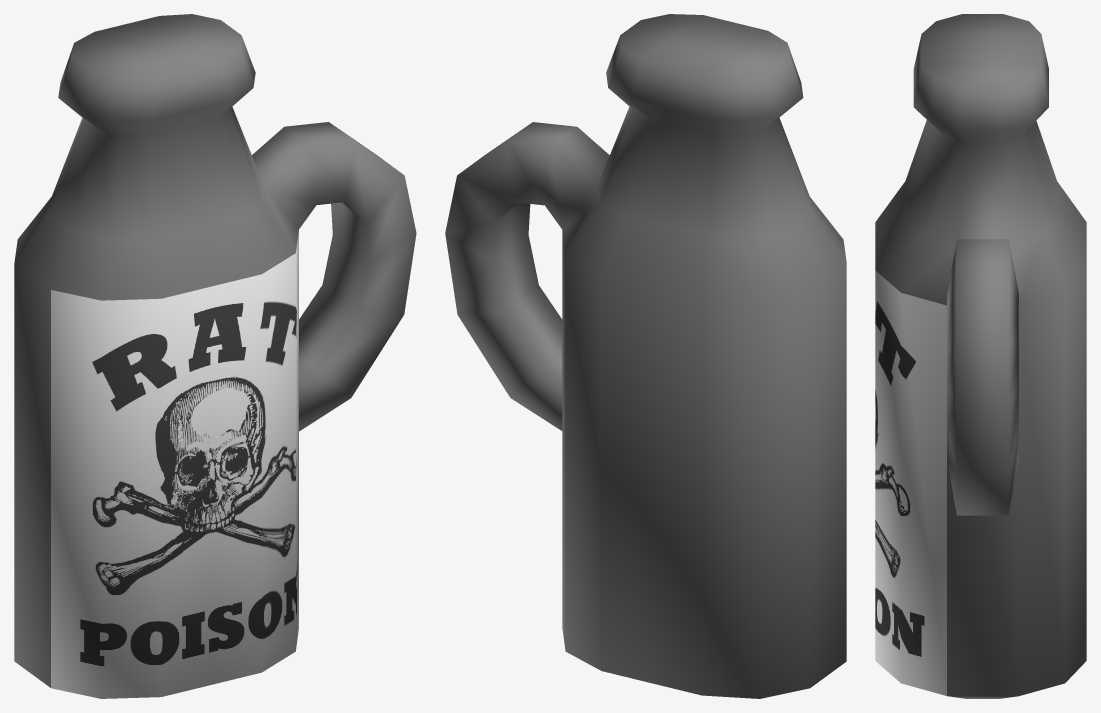
File: ratpoison.fbx
3 views of the same model, side by side, from view 1: azimuth 30°, elevation 25°; view 2: azimuth 150°, elevation 25°; view 3: azimuth 270°, elevation 25° (orthographic).
Parts seen in each view (by area): view 1: Cube; view 2: Cube; view 3: Cube.
Boxes of the visible parts, x1=… form: Cube: x1=14, y1=14, x2=416, y2=698; Cube: x1=445, y1=14, x2=846, y2=698; Cube: x1=875, y1=14, x2=1086, y2=698.
Size of the model in its own units: 1.95 by 3.13 by 0.9806.
